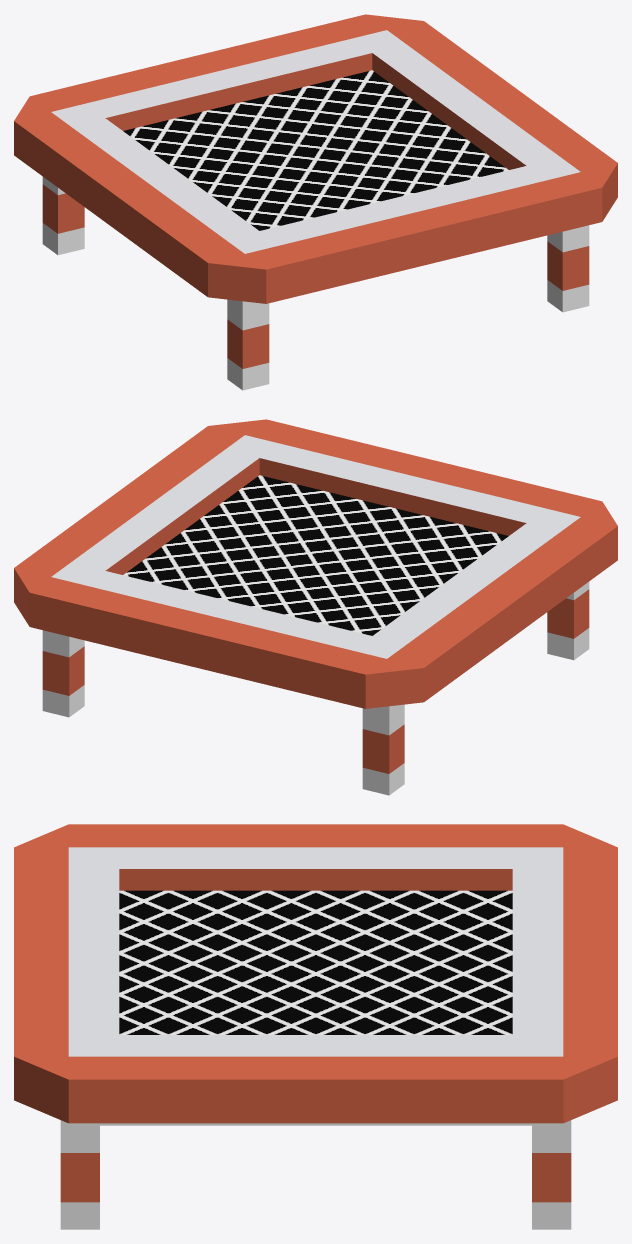
The model's file is frameLowTile.glb.
3 views of the same model, one above another, from view 1: azimuth 30°, elevation 25°; view 2: azimuth 150°, elevation 25°; view 3: azimuth 270°, elevation 25° (orthographic). The views are drawn at different scales.
Parts seen in each view (by area): view 1: frameLowTile; view 2: frameLowTile; view 3: frameLowTile.
Part boxes in pixels (bbox=[...]): frameLowTile: bbox=[14, 14, 617, 390]; frameLowTile: bbox=[14, 419, 617, 795]; frameLowTile: bbox=[14, 824, 617, 1229].
Size of the model in its own units: 10 by 3.1 by 10.
Materials: 4 (1 with a texture image).
